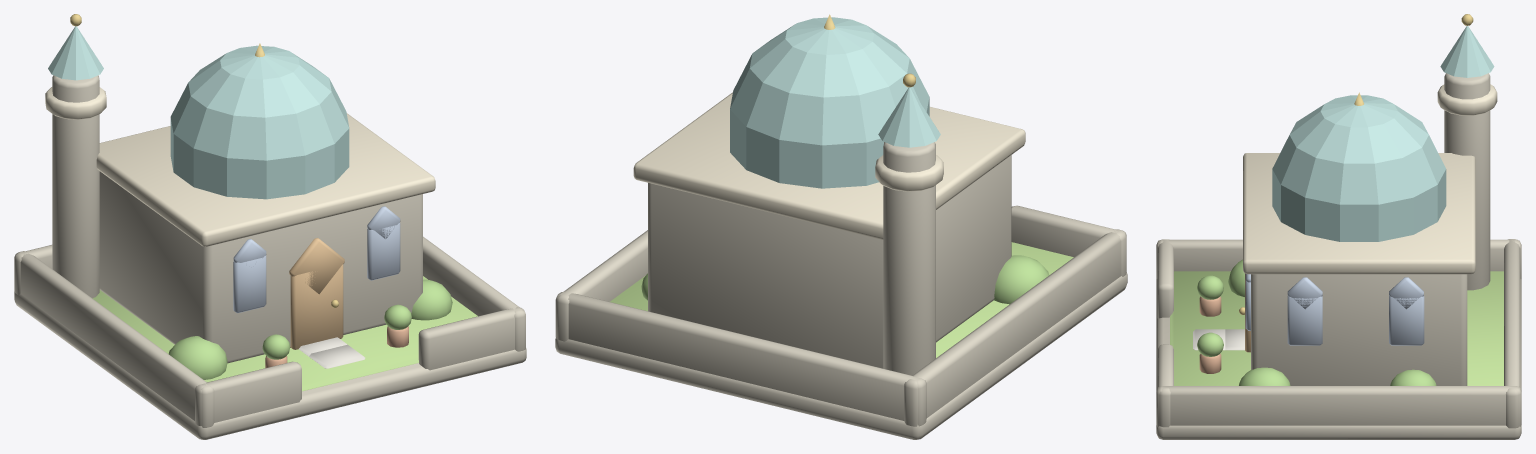
The model's file is mosque.glb.
3 views of the same model, side by side, from view 1: azimuth 30°, elevation 25°; view 2: azimuth 150°, elevation 25°; view 3: azimuth 270°, elevation 25° (orthographic). The views are drawn at different scales.
Parts seen in each view (by area): view 1: mosque; view 2: mosque; view 3: mosque.
Boxes of the visible parts, x1,y1,x2,y2 form: mosque: (14,14,526,439); mosque: (555,14,1127,439); mosque: (1156,14,1521,439).
Size of the model in its own units: 2.7 by 2.38 by 2.7.
